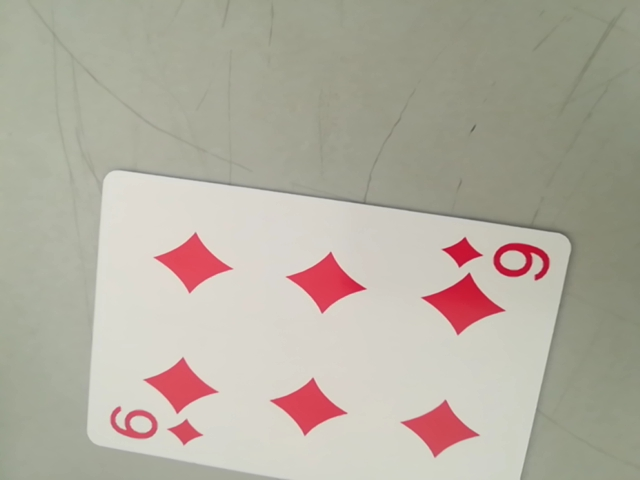fk 6: (437, 233, 554, 281), (101, 403, 206, 452)
